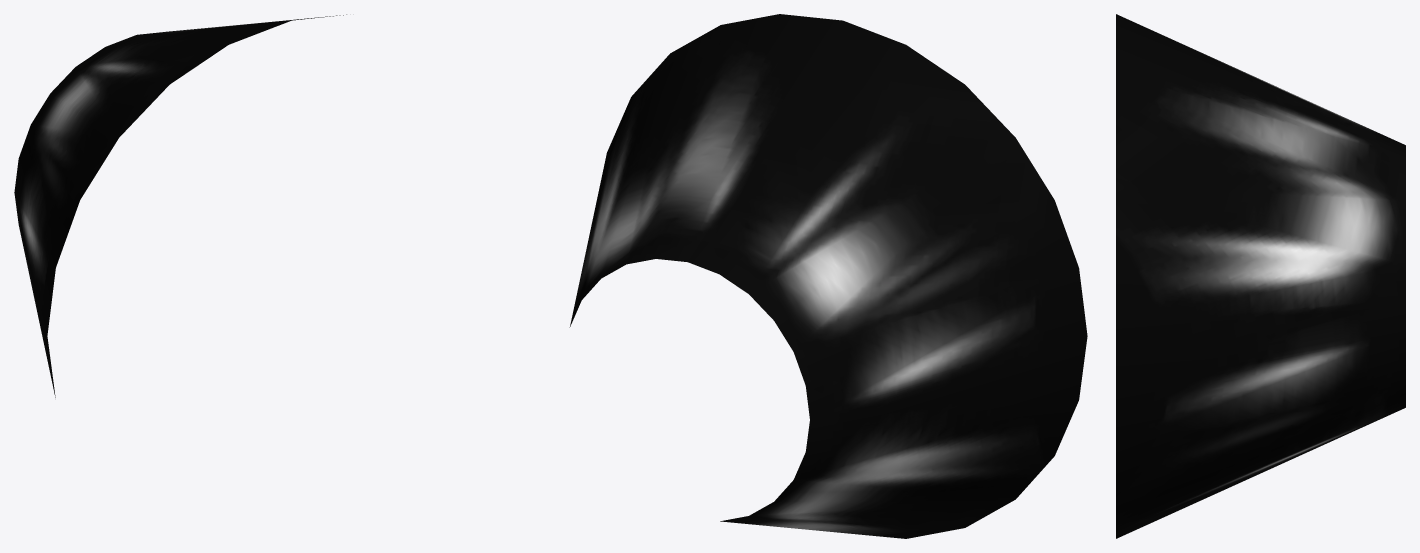
File: shockwave01.glb
The picture shows the model from 3 angles, left to right: view 1: azimuth 30°, elevation 25°; view 2: azimuth 150°, elevation 25°; view 3: azimuth 270°, elevation 25°; orthographic projection. The views are drawn at different scales.
Parts seen in each view (by area): view 1: model_shockwave01; view 2: model_shockwave01; view 3: model_shockwave01.
Boxes of the visible parts, x1=… form: model_shockwave01: x1=14, y1=14, x2=346, y2=397; model_shockwave01: x1=569, y1=14, x2=1087, y2=538; model_shockwave01: x1=1116, y1=14, x2=1405, y2=538.
Bounding box in the file's own units: 1.96 × 1.96 × 1.08.
1 material, 1 textured.
